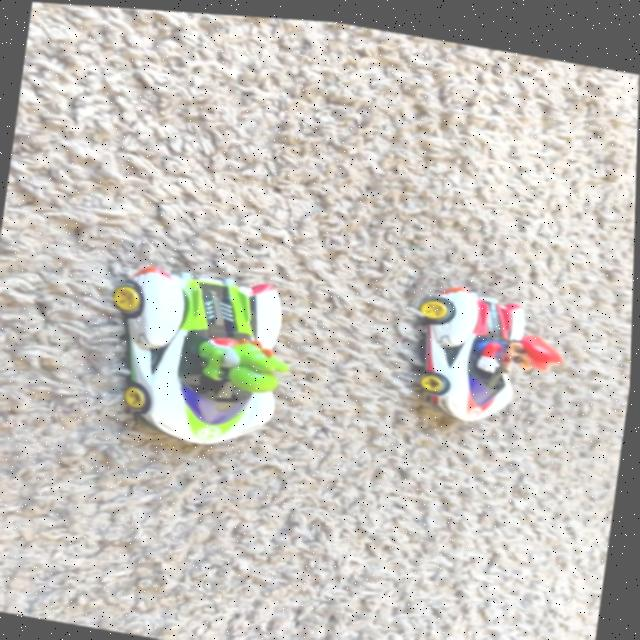mario: (389, 263, 583, 438)
yoshi: (88, 235, 317, 474)
